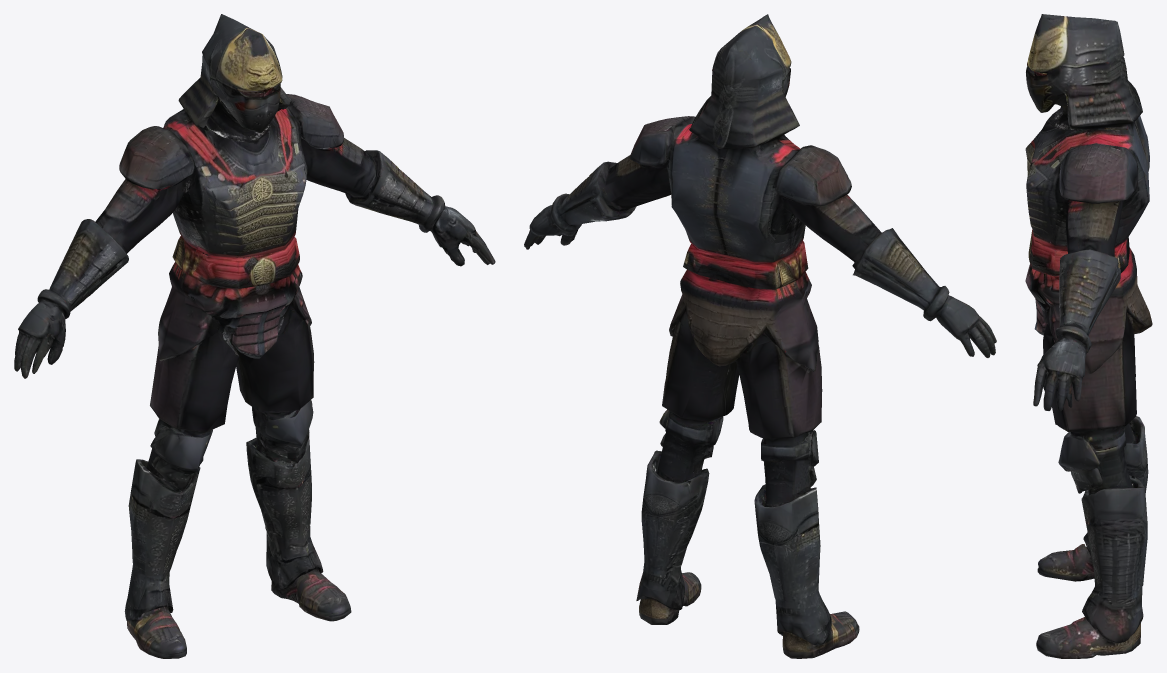
The model's file is samoerai.glb.
The picture shows the model from 3 angles, left to right: view 1: azimuth 30°, elevation 25°; view 2: azimuth 150°, elevation 25°; view 3: azimuth 270°, elevation 25°; orthographic projection.
Bounding box in the file's own units: 1.63 × 1.99 × 0.3851.
Materials: 1 (1 with a texture image).
